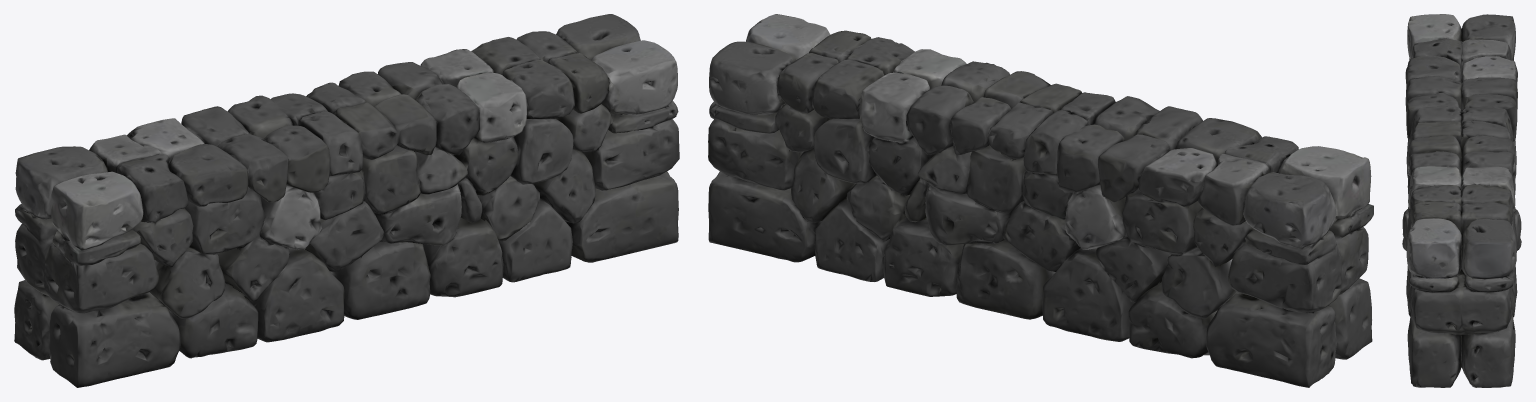
Rendered from wall-basalt.glb.
The picture shows the model from 3 angles, left to right: view 1: azimuth 30°, elevation 25°; view 2: azimuth 150°, elevation 25°; view 3: azimuth 270°, elevation 25°; orthographic projection. The views are drawn at different scales.
Visible parts, largest first — view 1: tripo_node_afb25efe-c9d7-4573-bf5d-6b8bad6baf1d; view 2: tripo_node_afb25efe-c9d7-4573-bf5d-6b8bad6baf1d; view 3: tripo_node_afb25efe-c9d7-4573-bf5d-6b8bad6baf1d.
Part boxes in pixels (x1,y1,x2,y2): tripo_node_afb25efe-c9d7-4573-bf5d-6b8bad6baf1d: (14, 14, 679, 387); tripo_node_afb25efe-c9d7-4573-bf5d-6b8bad6baf1d: (708, 14, 1373, 387); tripo_node_afb25efe-c9d7-4573-bf5d-6b8bad6baf1d: (1402, 14, 1521, 387).
Bounding box in the file's own units: 0.9798 × 0.2944 × 0.2128.
1 material, 1 textured.
